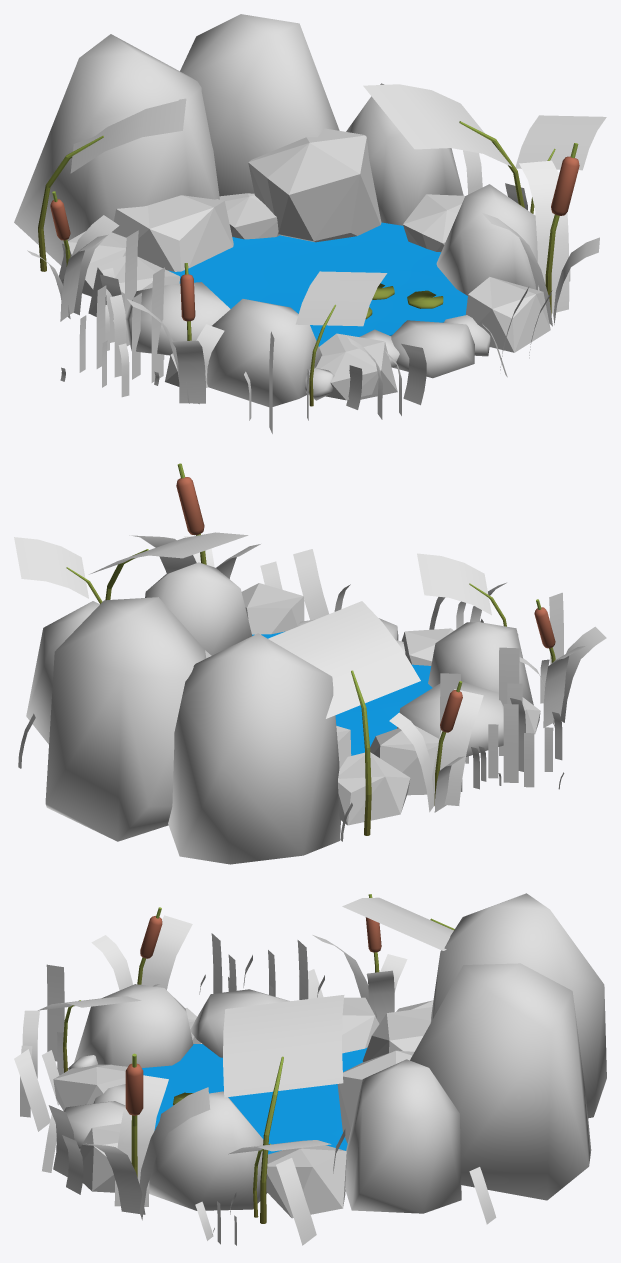
Rendered from waterfall.fbx.
The picture shows the model from 3 angles, top to bottom: view 1: azimuth 30°, elevation 25°; view 2: azimuth 150°, elevation 25°; view 3: azimuth 270°, elevation 25°; orthographic projection.
Parts seen in each view (by area): view 1: Plane.031; view 2: Plane.031; view 3: Plane.031.
Boxes of the visible parts, x1=… form: Plane.031: x1=14, y1=14, x2=606, y2=433; Plane.031: x1=14, y1=463, x2=606, y2=864; Plane.031: x1=14, y1=893, x2=606, y2=1245.
Bounding box in the file's own units: 1046 × 382 × 973.
